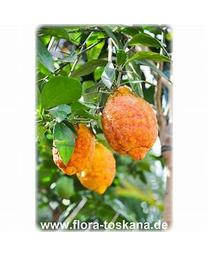lemon: (103, 87, 158, 161), (54, 117, 97, 176), (78, 134, 115, 193)
